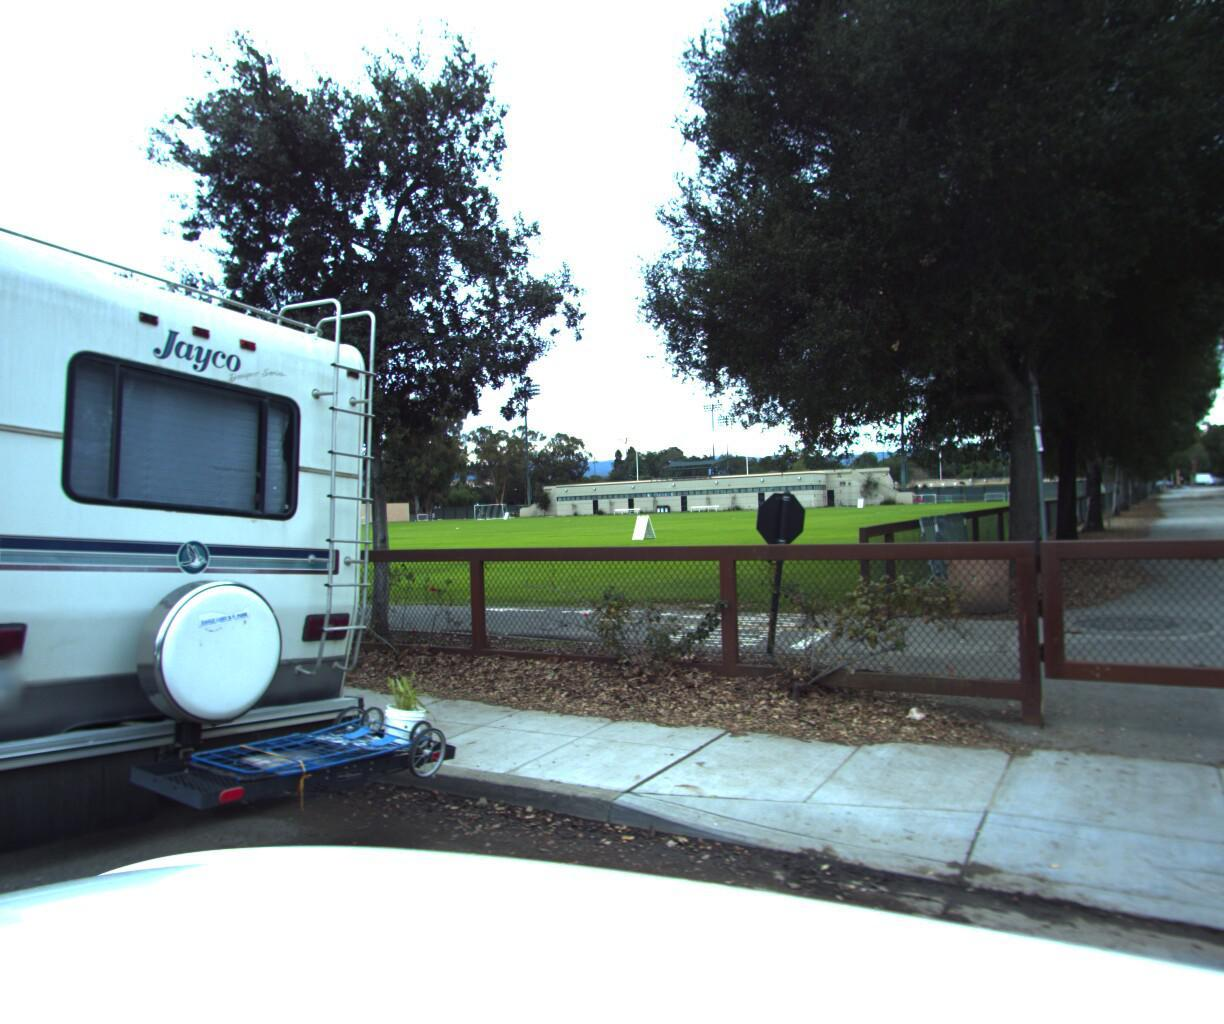other_vehicle: (0, 118, 445, 989)
